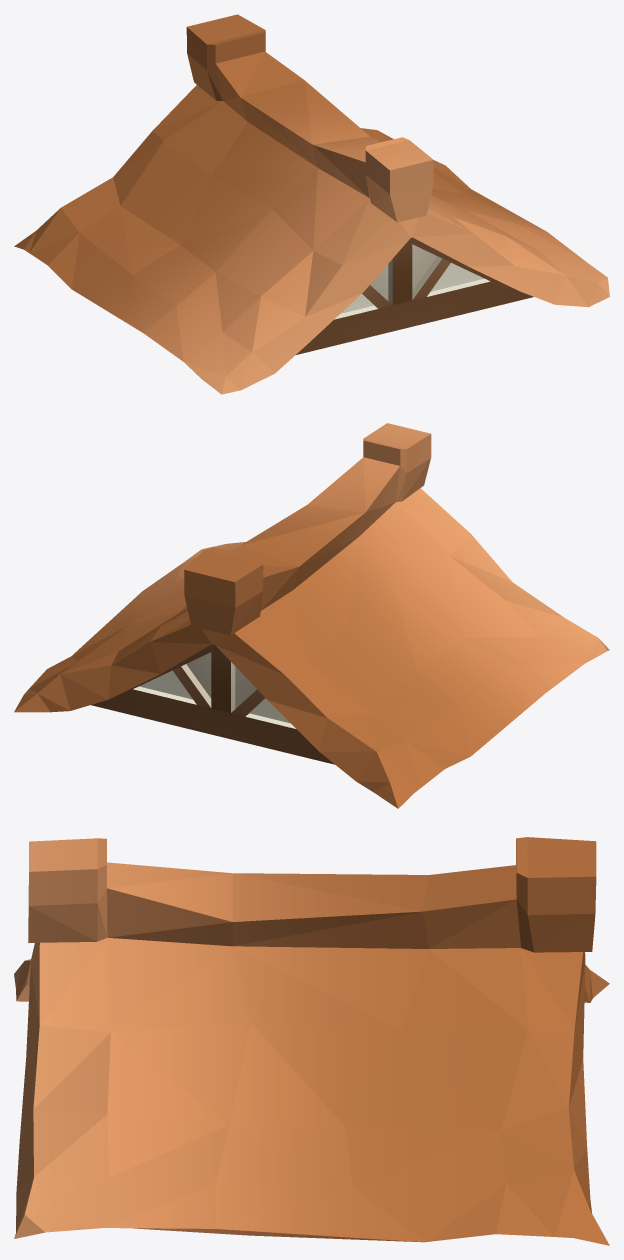
File: House_4x4_RoofFull.gltf
The picture shows the model from 3 angles, top to bottom: view 1: azimuth 30°, elevation 25°; view 2: azimuth 150°, elevation 25°; view 3: azimuth 270°, elevation 25°; orthographic projection. The views are drawn at different scales.
Parts seen in each view (by area): view 1: House_4x4_RoofFull; view 2: House_4x4_RoofFull; view 3: House_4x4_RoofFull.
Boxes of the visible parts, x1=… form: House_4x4_RoofFull: x1=14, y1=14, x2=609, y2=394; House_4x4_RoofFull: x1=14, y1=423, x2=609, y2=808; House_4x4_RoofFull: x1=14, y1=837, x2=609, y2=1245.
Size of the model in its own units: 5.63 by 2.49 by 5.04.
1 material, 1 textured.
